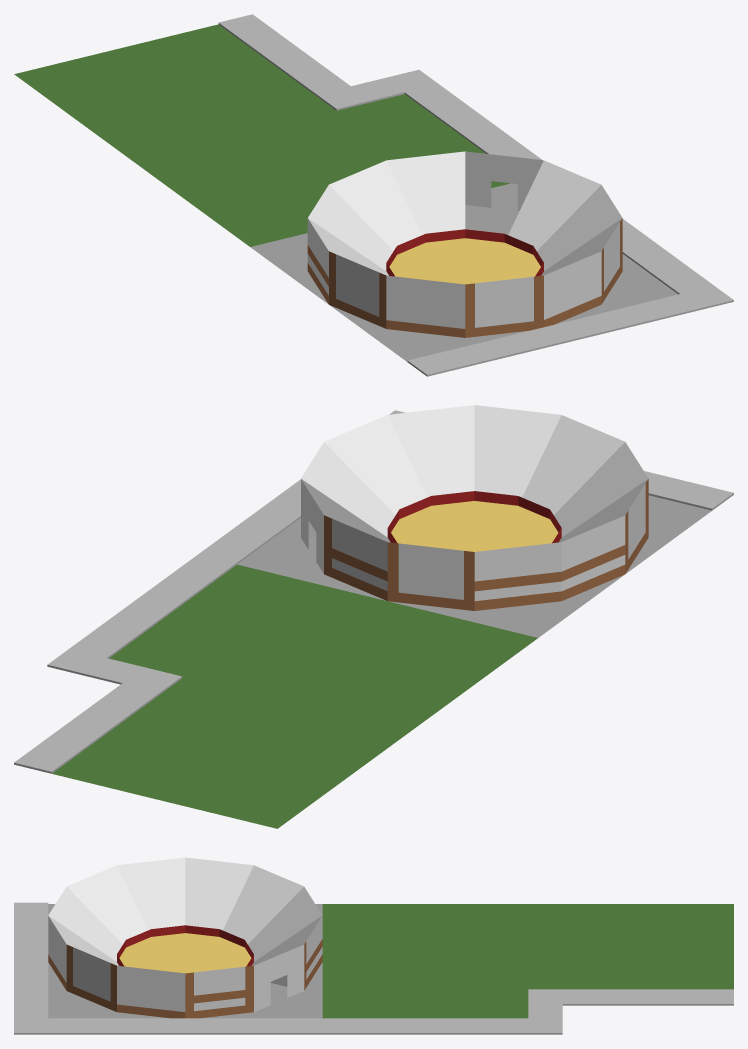
The model's file is bull_arena.glb.
The picture shows the model from 3 angles, top to bottom: view 1: azimuth 30°, elevation 25°; view 2: azimuth 150°, elevation 25°; view 3: azimuth 270°, elevation 25°; orthographic projection. The views are drawn at different scales.
Visible parts, largest first — view 1: Circle; view 2: Circle; view 3: Circle.
Part boxes in pixels (left/top/right/bottom): Circle: left=14, top=14, right=733, bottom=376; Circle: left=14, top=405, right=733, bottom=828; Circle: left=14, top=857, right=733, bottom=1034.
Size of what is drawn, in the model's own units: 36 by 6 by 84.
